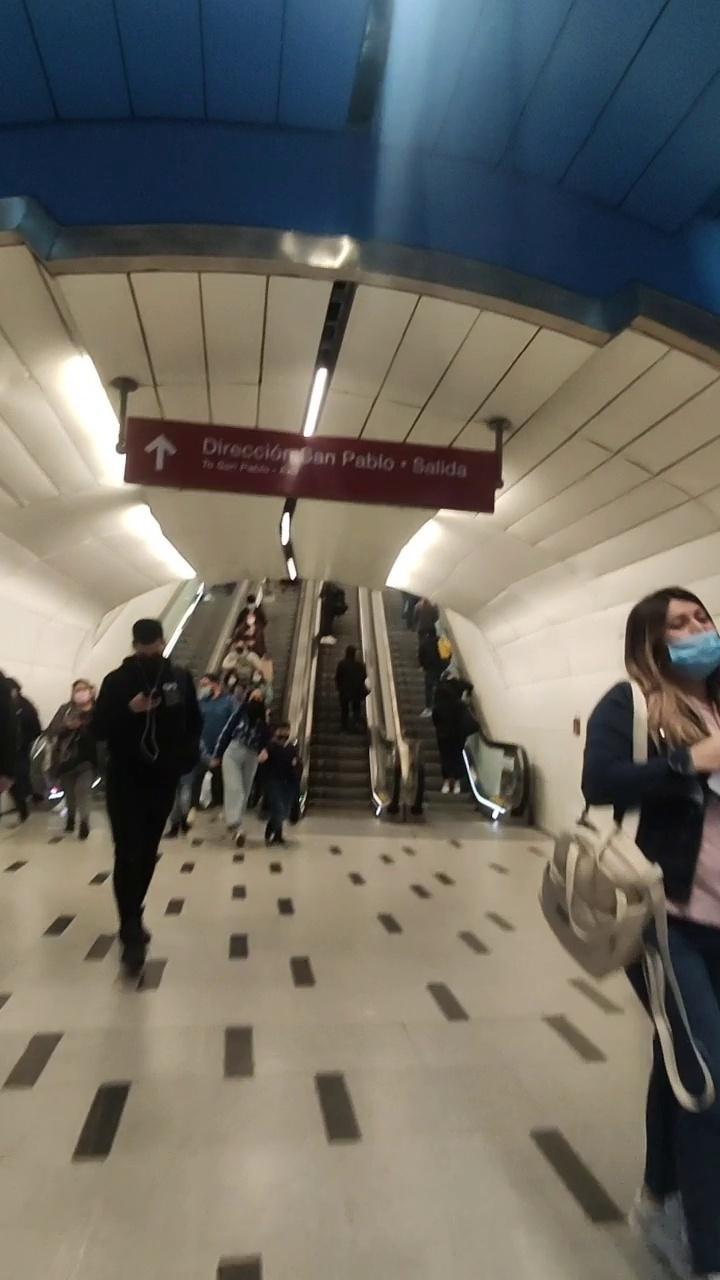up arrow: (134, 426, 190, 476)
